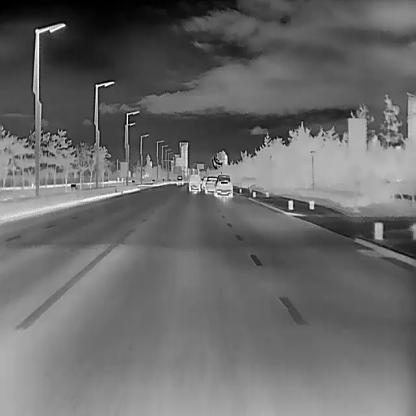car: (214, 174, 233, 197), (204, 176, 218, 194), (188, 174, 200, 193), (201, 176, 212, 188), (175, 175, 184, 186)
